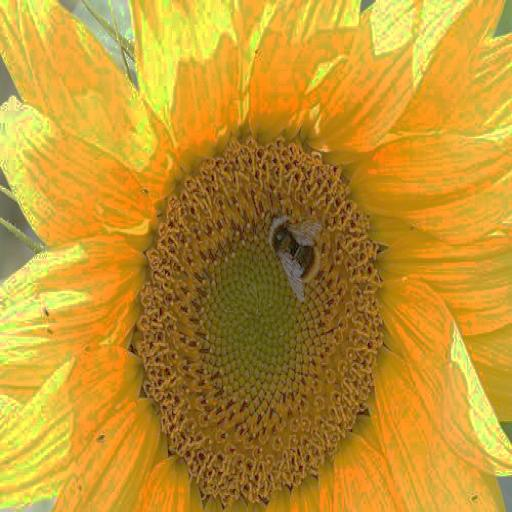sunflower: (0, 0, 508, 512)
